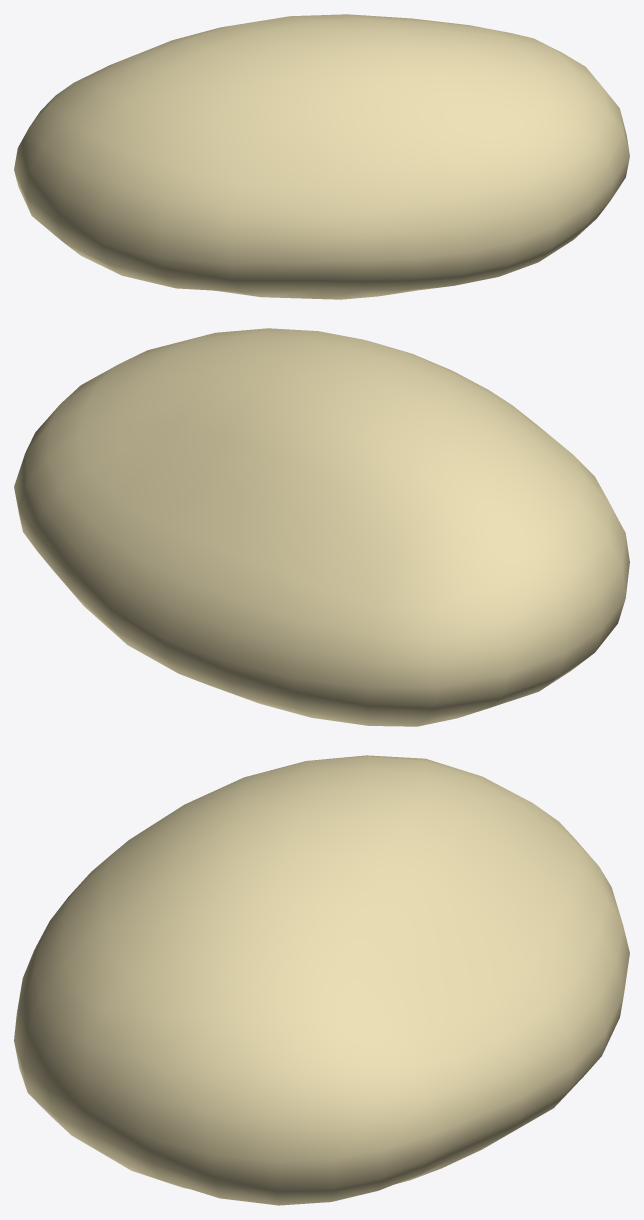
File: Dough.fbx
The picture shows the model from 3 angles, top to bottom: view 1: azimuth 30°, elevation 25°; view 2: azimuth 150°, elevation 25°; view 3: azimuth 270°, elevation 25°; orthographic projection. The views are drawn at different scales.
Visible parts, largest first — view 1: SM_Dough_01; view 2: SM_Dough_01; view 3: SM_Dough_01.
Part boxes in pixels (<box>): SM_Dough_01: <box>14,14,629,299</box>; SM_Dough_01: <box>14,328,629,726</box>; SM_Dough_01: <box>14,755,629,1205</box>.
Size of the model in its own units: 47.04 by 19 by 37.84.
